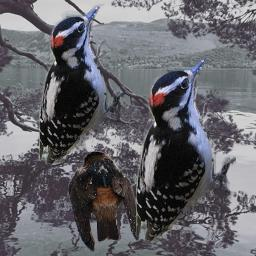Swallow: (68, 151, 142, 253)
Woodpecker: (136, 56, 236, 243), (39, 4, 126, 165)
